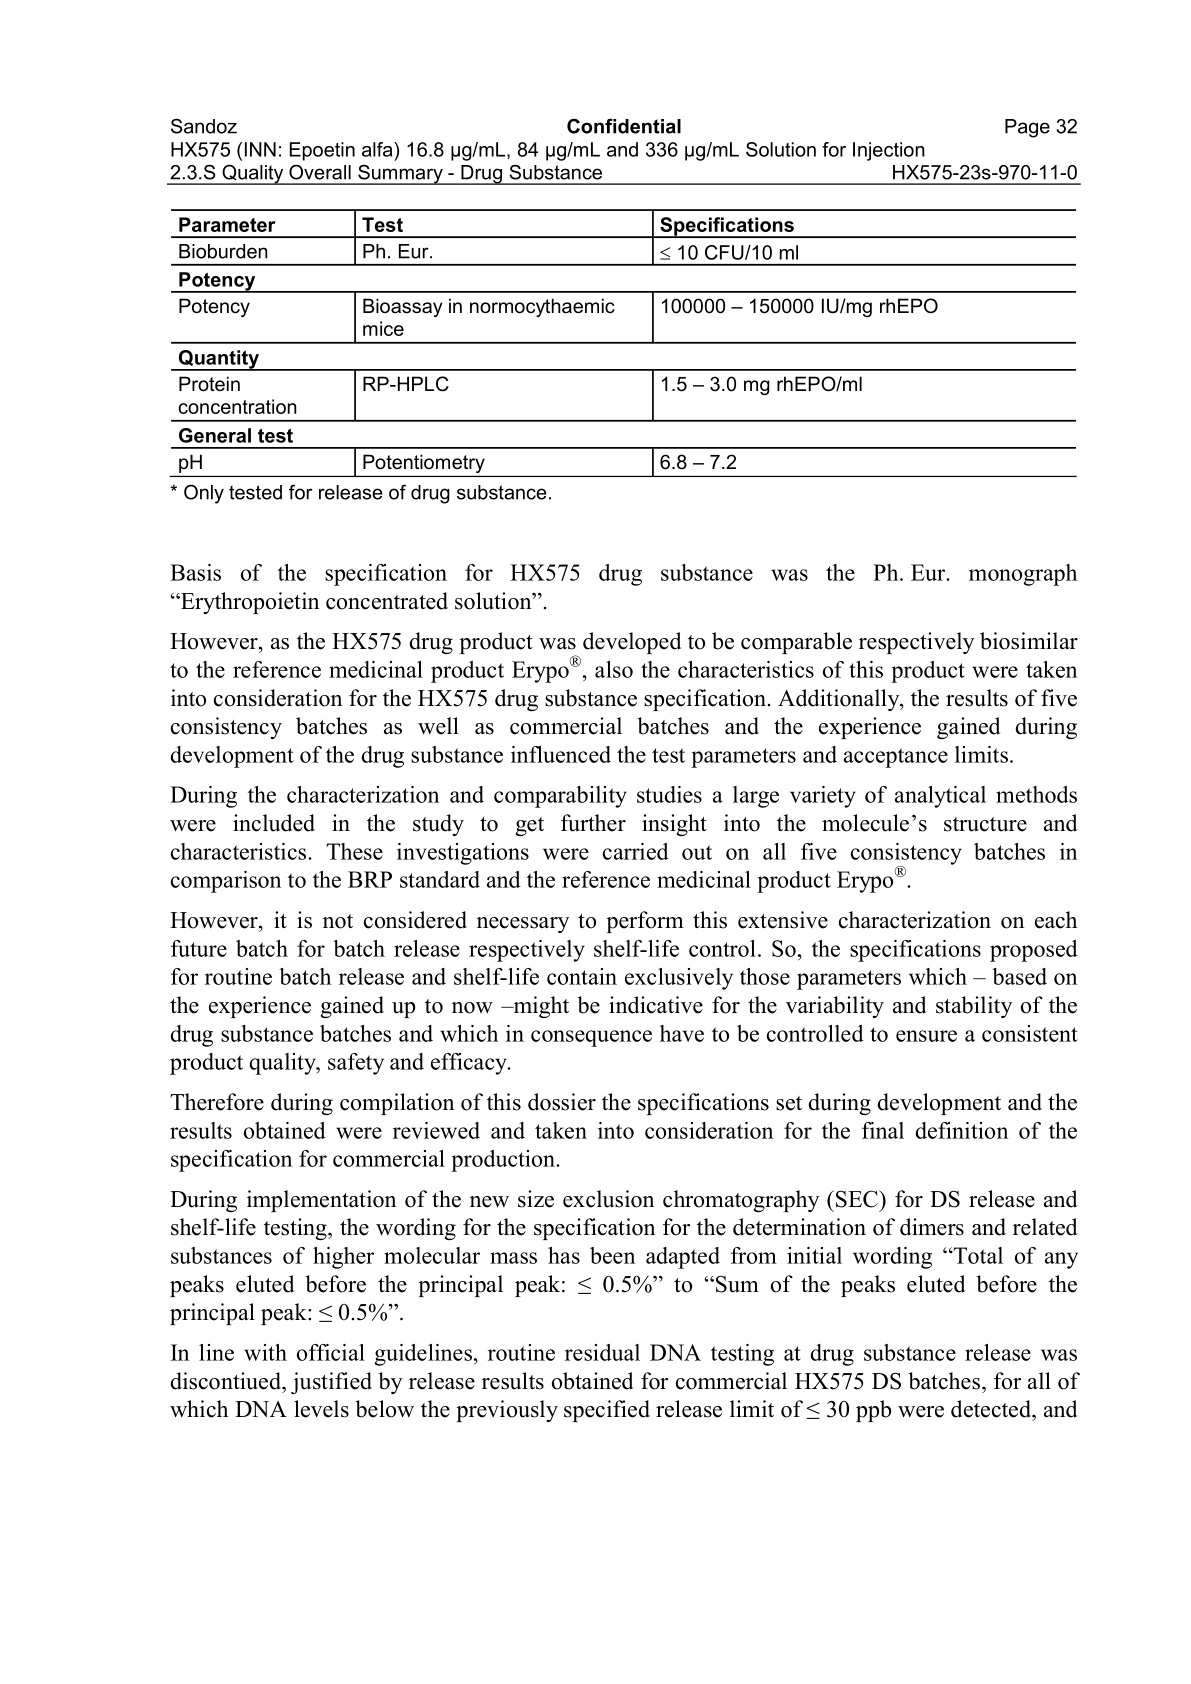partial_lined_merged_cells: (170, 207, 1079, 478)
